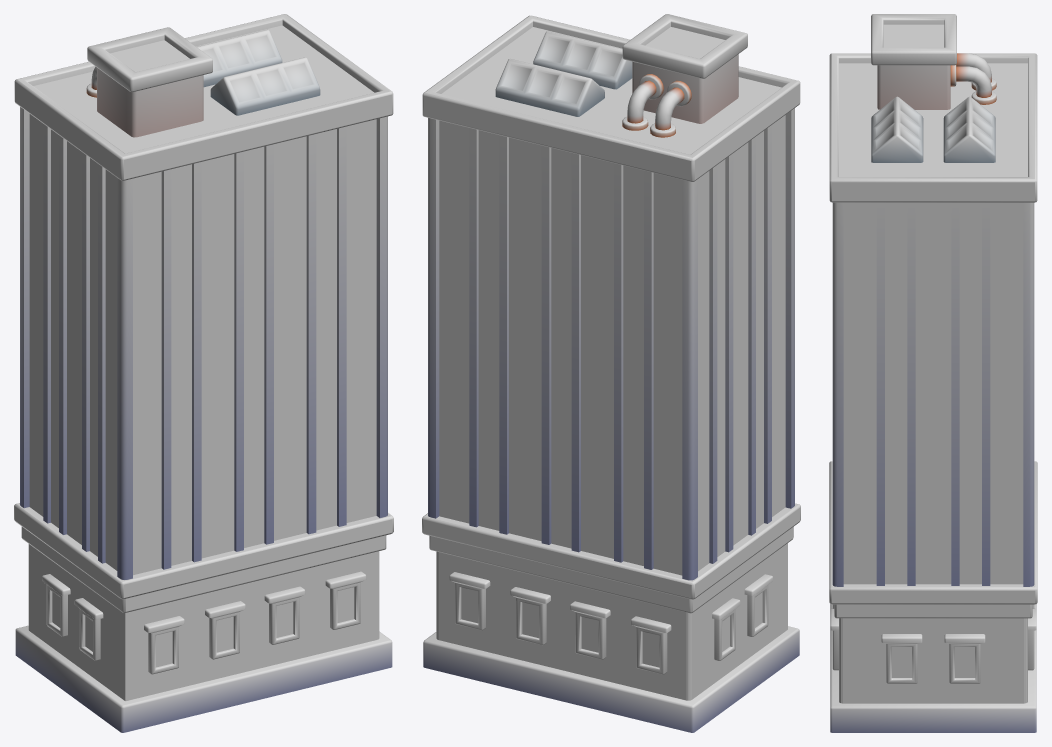
Rendered from NF_Bld_Apartment 47.fbx.
3 views of the same model, side by side, from view 1: azimuth 30°, elevation 25°; view 2: azimuth 150°, elevation 25°; view 3: azimuth 270°, elevation 25° (orthographic). The views are drawn at different scales.
Parts seen in each view (by area): view 1: Apart_47; view 2: Apart_47; view 3: Apart_47.
Part boxes in pixels (x1,y1,x2,y2): Apart_47: [14, 14, 393, 732]; Apart_47: [422, 14, 800, 732]; Apart_47: [829, 14, 1037, 732].
Bounding box in the file's own units: 9.62 × 21.26 × 6.62.
